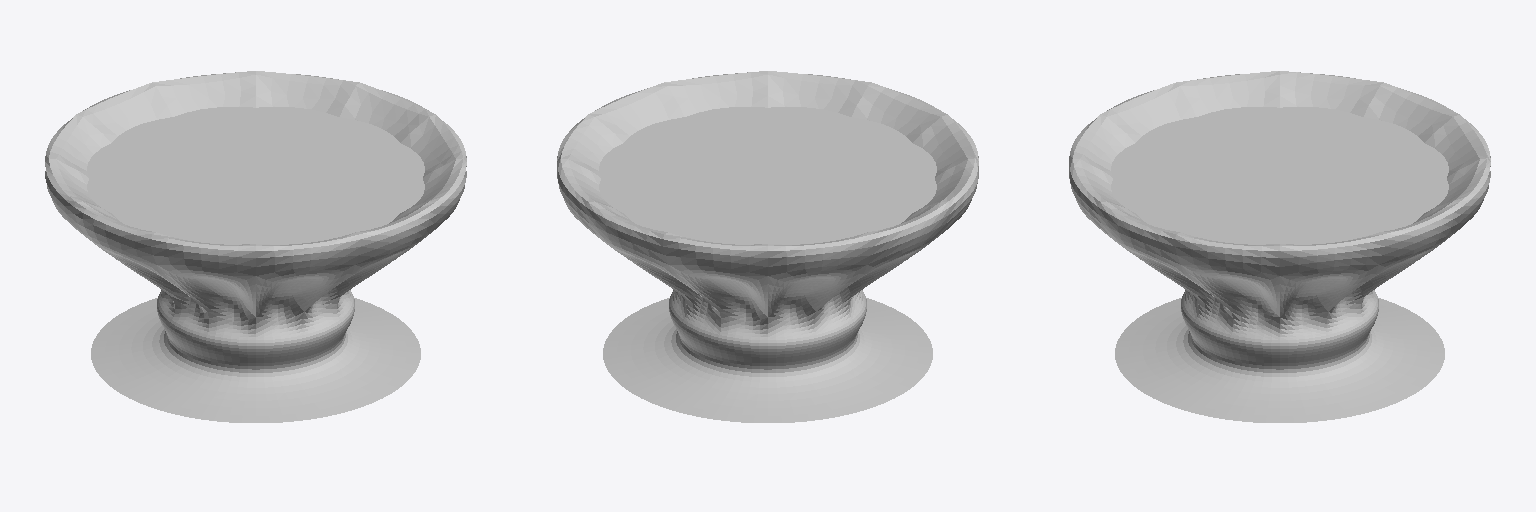
Rendered from fuente.obj.
3 views of the same model, side by side, from view 1: azimuth 30°, elevation 25°; view 2: azimuth 150°, elevation 25°; view 3: azimuth 270°, elevation 25° (orthographic).
Size of the model in its own units: 0.0302 by 0.0154 by 0.0302.